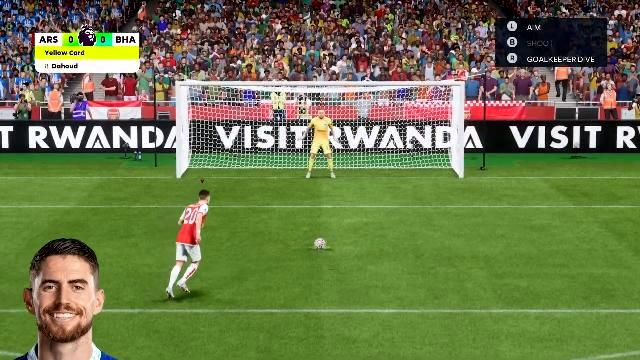bottom-left: (185, 142, 282, 178)
bottom-right: (367, 142, 458, 178)
center-down: (284, 142, 364, 180)
center-up: (284, 88, 364, 140)
circle: (310, 244, 332, 248)
football: (312, 237, 328, 247)
goalkeeper: (290, 117, 344, 180)
player: (167, 187, 205, 301)
top-left: (186, 87, 282, 140)
top-right: (368, 88, 457, 140)
